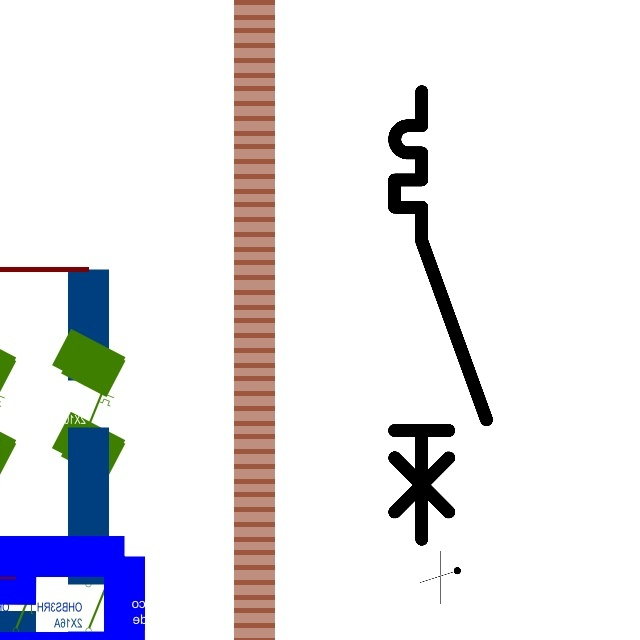interruptor_termomagnetico: (383, 80, 498, 550)
